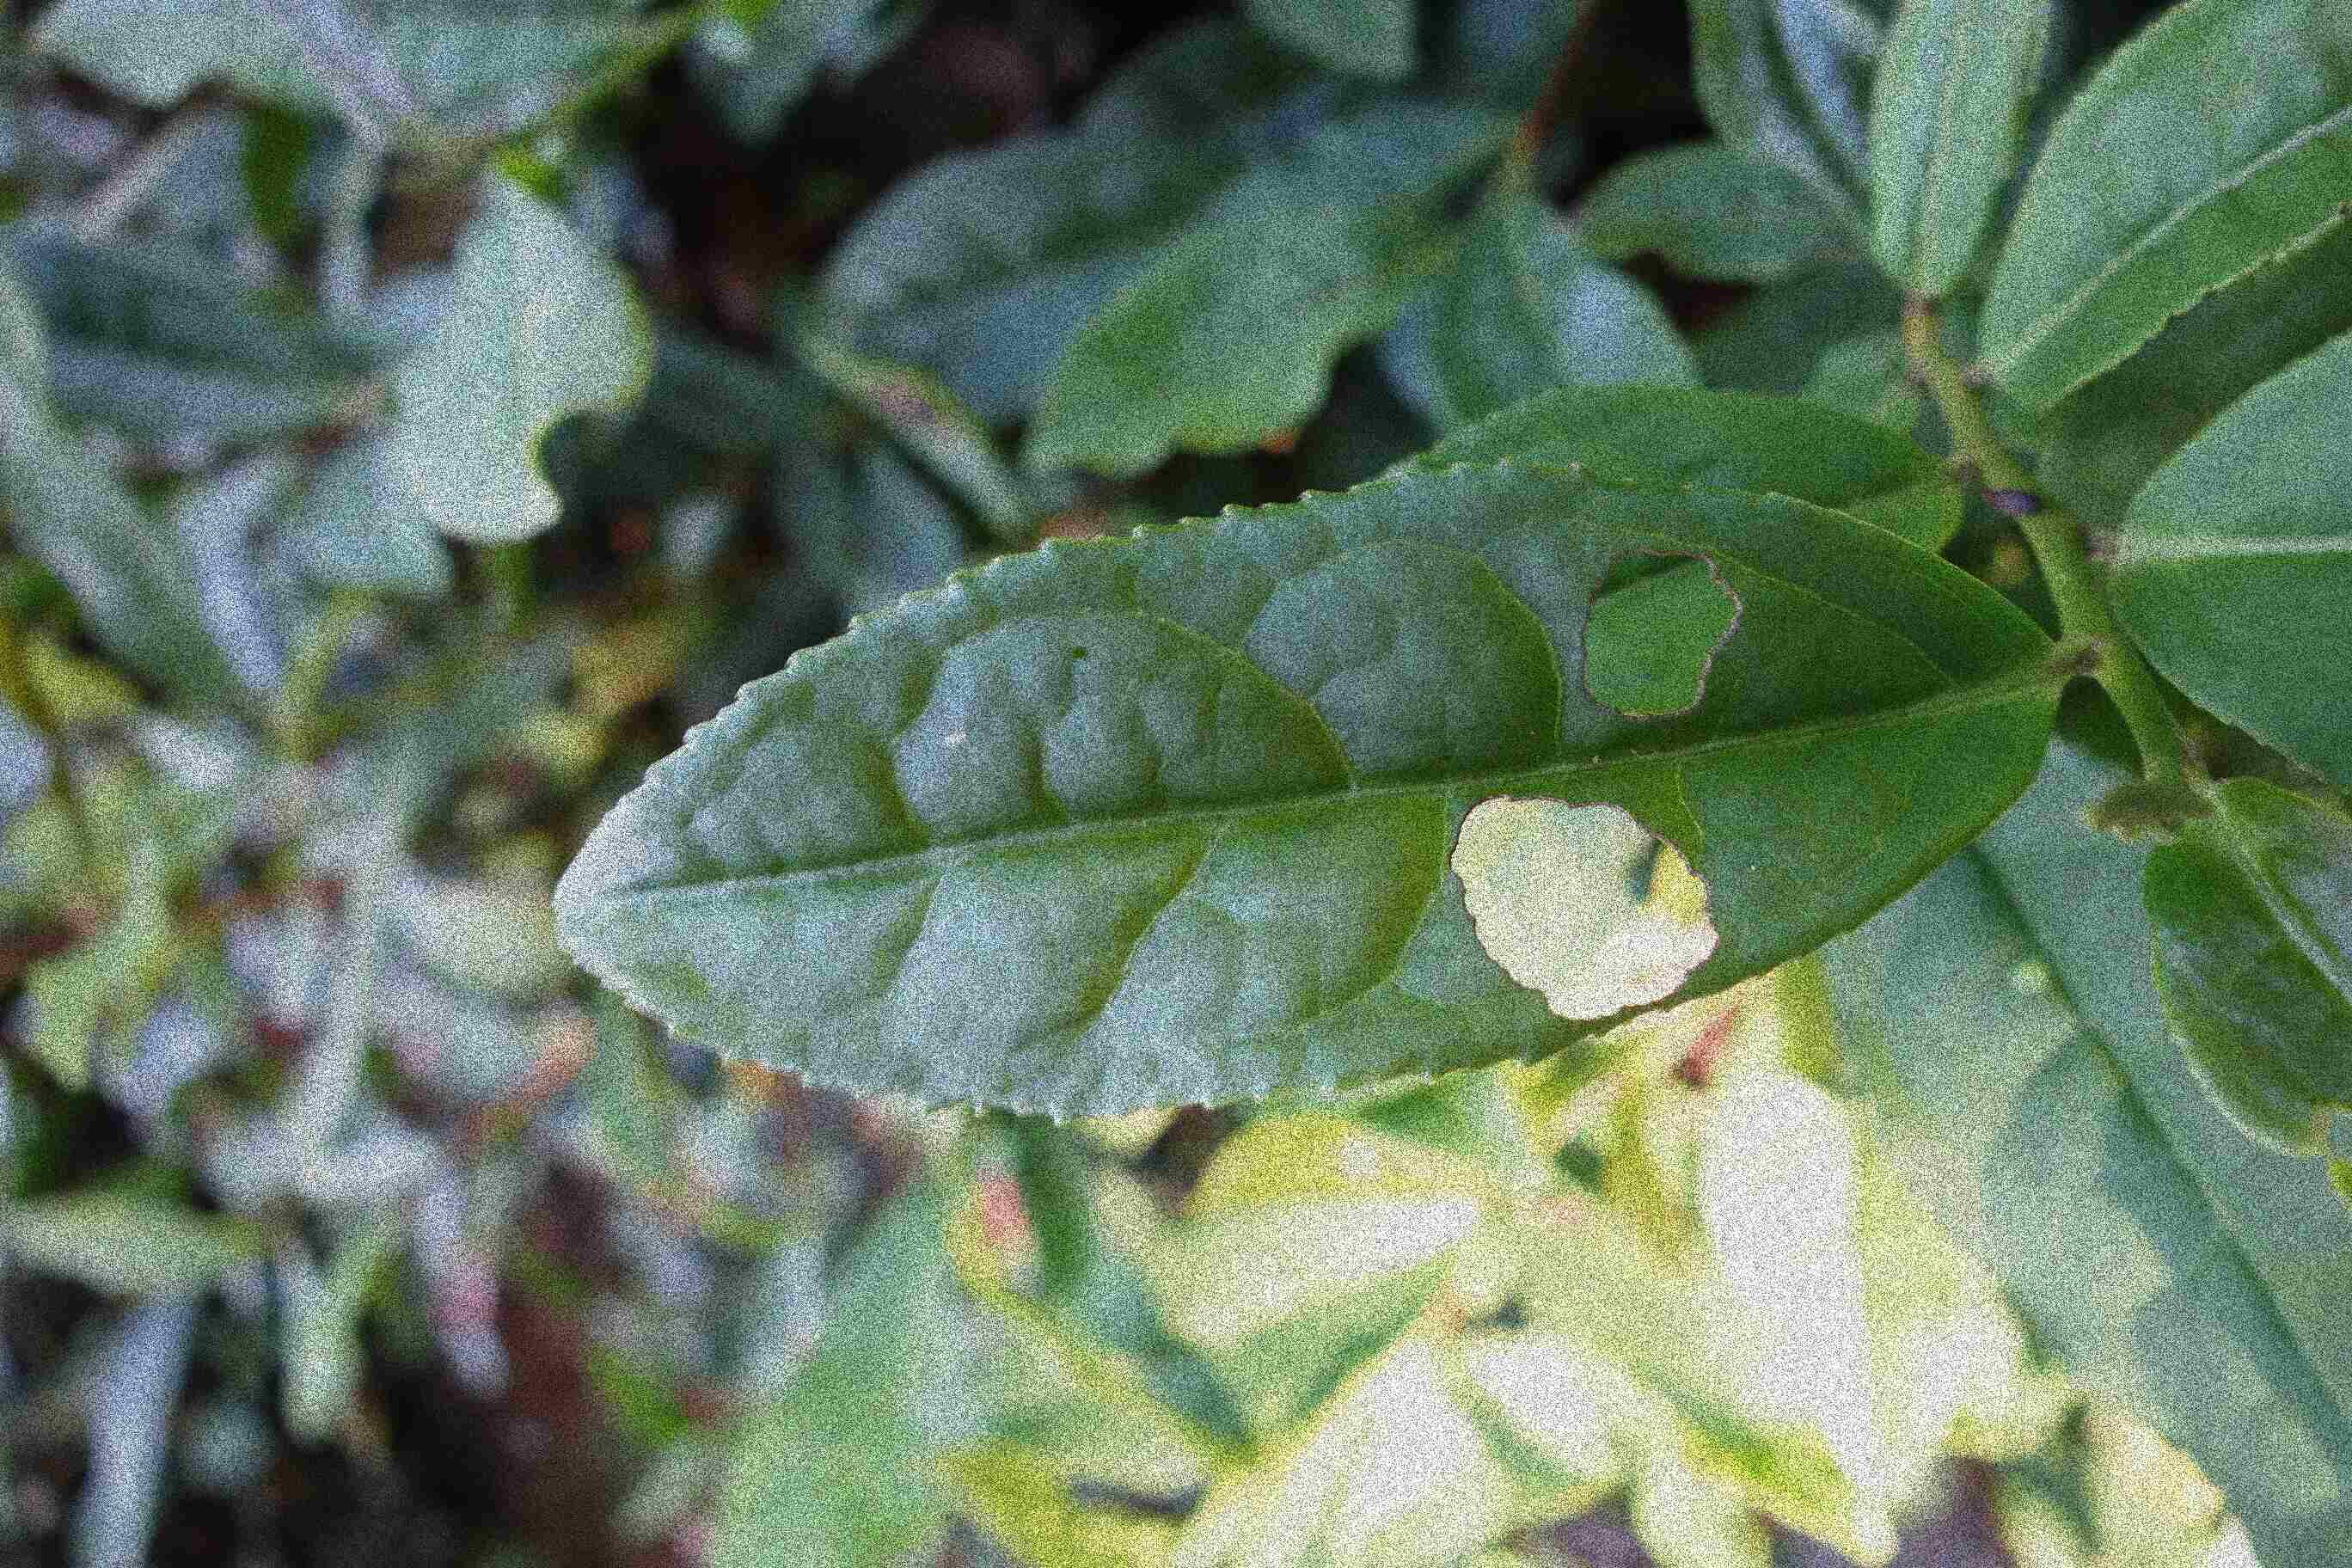chihuo_high: (553, 457, 2074, 1134)
